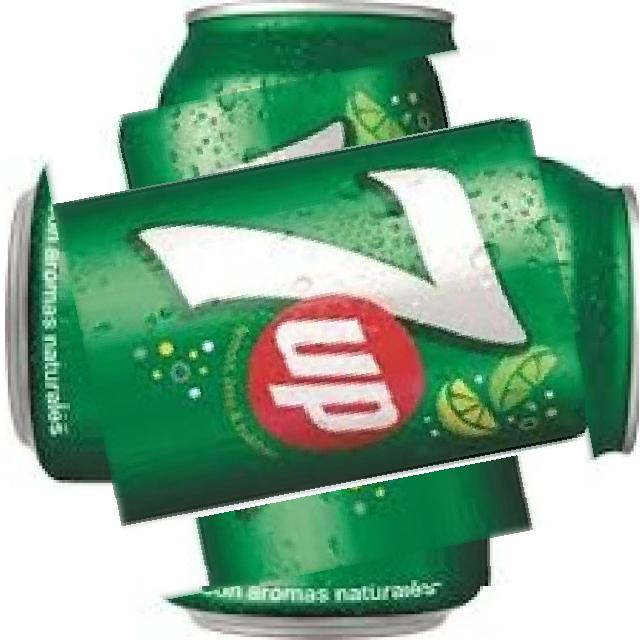recyclable: (59, 59, 585, 586)
